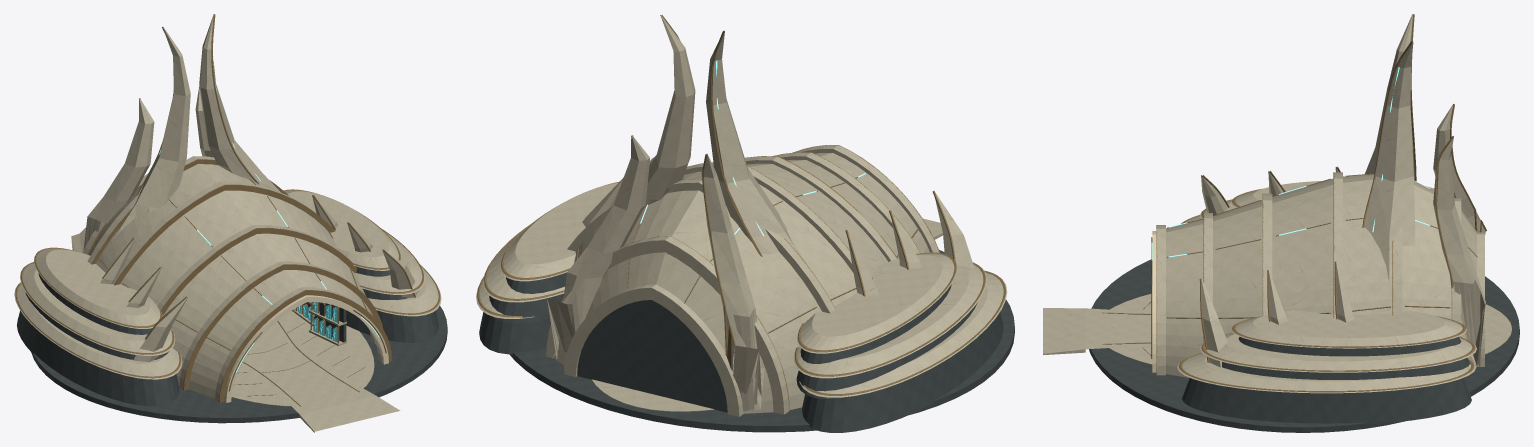
The model's file is avaris-vault.glb.
3 renders of one model, left to right at view 1: azimuth 30°, elevation 25°; view 2: azimuth 150°, elevation 25°; view 3: azimuth 270°, elevation 25°, orthographic. The views are drawn at different scales.
Visible parts, largest first — view 1: Nave_roof_ceramic, Outer_galleries_ceramic, Foundation_ceramic, Split_crown_ceramic, Outer_galleries_basalt, Foundation_basalt, Nave_roof_bronze, Outer_galleries_bronze, Nave_roof_pearl, Memory_stacks_memory_glass, Memory_stacks_bronze, Foundation_bronze (+2 smaller); view 2: Nave_roof_ceramic, Outer_galleries_ceramic, Split_crown_ceramic, Outer_galleries_basalt, Nave_roof_basalt, Foundation_basalt, Outer_galleries_bronze, Foundation_ceramic, Nave_roof_bronze, Split_crown_bronze; view 3: Nave_roof_ceramic, Outer_galleries_ceramic, Split_crown_ceramic, Outer_galleries_basalt, Foundation_basalt, Foundation_ceramic, Outer_galleries_bronze, Nave_roof_bronze, Split_crown_bronze, Nave_roof_pearl.
Boxes of the visible parts, x1,y1,x2,y2 form: Nave_roof_ceramic: (82,156,381,402); Outer_galleries_ceramic: (14,190,441,379); Foundation_ceramic: (231,311,400,432); Split_crown_ceramic: (71,14,279,252); Outer_galleries_basalt: (17,266,438,406); Foundation_basalt: (31,305,447,423); Nave_roof_bronze: (87,159,392,402); Outer_galleries_bronze: (15,189,440,378); Nave_roof_pearl: (224,295,388,402); Memory_stacks_memory_glass: (298,302,337,341); Memory_stacks_bronze: (292,302,339,344); Foundation_bronze: (234,321,365,406); Nave_roof_ceramic: (546,145,939,416); Outer_galleries_ceramic: (476,156,1007,397); Split_crown_ceramic: (547,15,807,411); Outer_galleries_basalt: (479,272,1003,432); Nave_roof_basalt: (577,300,727,412); Foundation_basalt: (509,250,1014,432); Outer_galleries_bronze: (477,155,1005,395); Foundation_ceramic: (592,218,942,411); Nave_roof_bronze: (576,145,939,410); Split_crown_bronze: (632,15,762,369); Nave_roof_ceramic: (1156,172,1484,377); Outer_galleries_ceramic: (1177,166,1476,393); Split_crown_ceramic: (1364,14,1485,367); Outer_galleries_basalt: (1182,337,1471,423); Foundation_basalt: (1089,259,1519,432); Foundation_ceramic: (1043,294,1511,364); Outer_galleries_bronze: (1179,166,1475,392); Nave_roof_bronze: (1151,172,1477,374); Split_crown_bronze: (1362,14,1486,288); Nave_roof_pearl: (1152,231,1156,372).
Size of the model in its own units: 39.3 by 28.71 by 40.35.
Materials: 7 (3 with a texture image).
